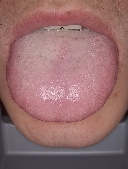tongue: (4, 34, 120, 124)
